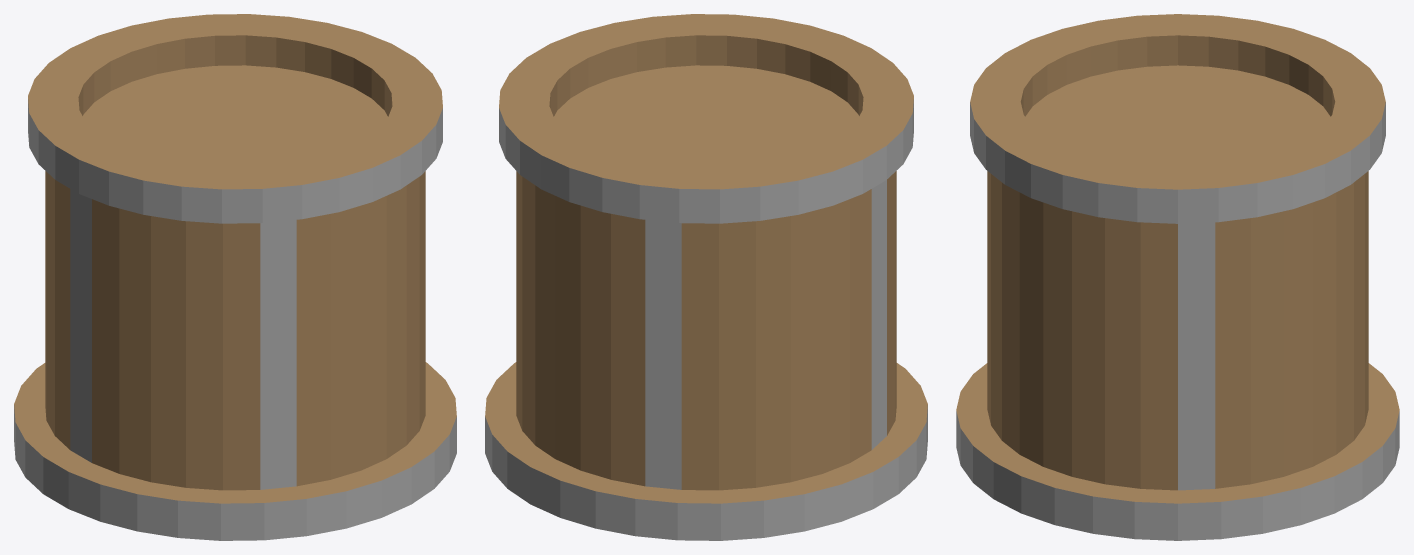
Rendered from G11_AhmedBarrel.fbx.
3 renders of one model, left to right at view 1: azimuth 30°, elevation 25°; view 2: azimuth 150°, elevation 25°; view 3: azimuth 270°, elevation 25°, orthographic.
Parts seen in each view (by area): view 1: Cylinder; view 2: Cylinder; view 3: Cylinder.
Part boxes in pixels (x1=…): Cylinder: x1=14, y1=14, x2=456, y2=540; Cylinder: x1=485, y1=14, x2=927, y2=540; Cylinder: x1=956, y1=14, x2=1399, y2=540.
Size of the model in its own units: 233 by 200 by 233.
